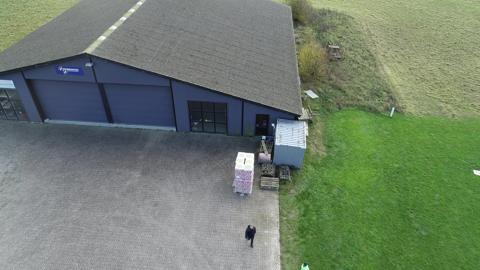RockwoolPallet: (235, 150, 255, 191)
